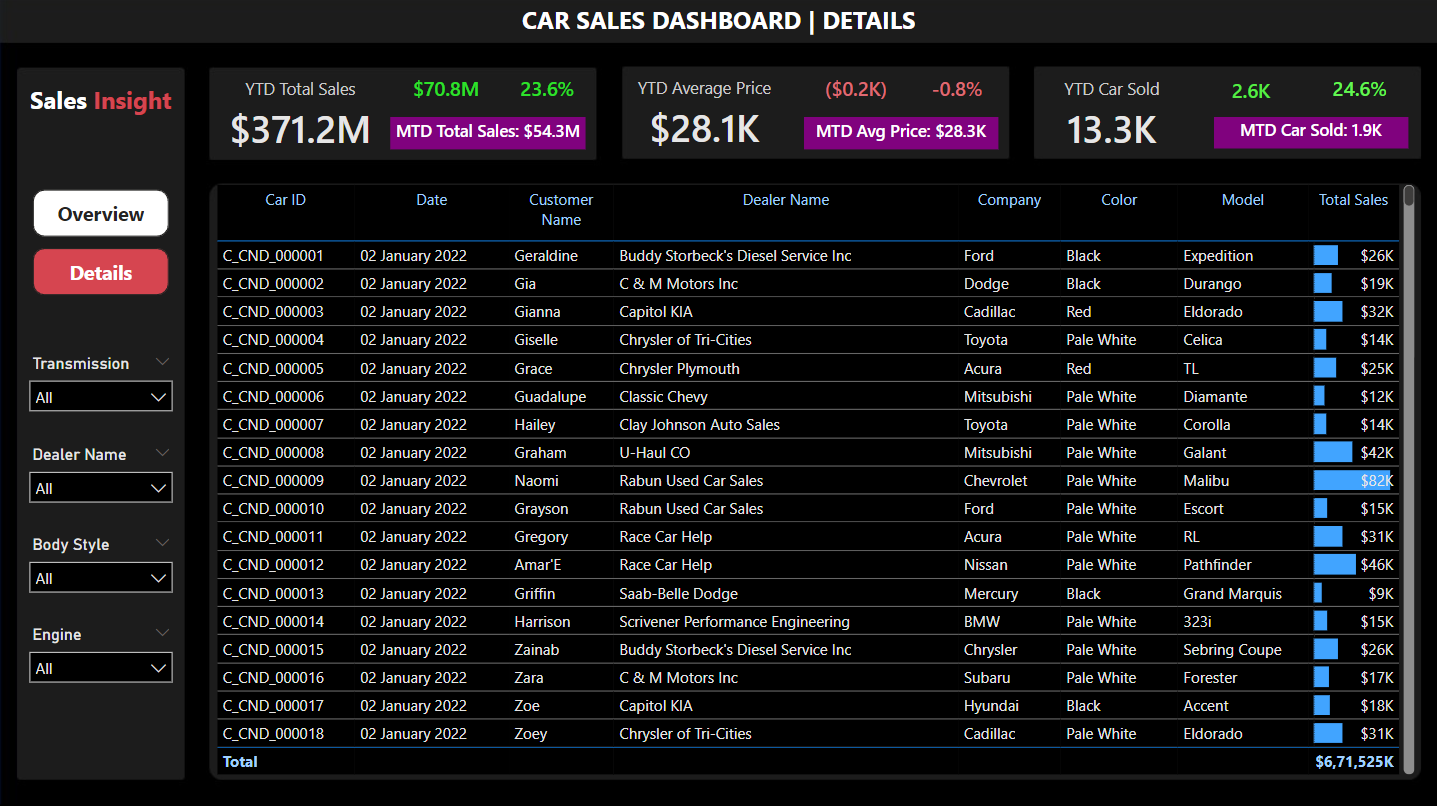

The page's visual inventory and layout, read from the dashboard file:
{"tool":"powerbi","page":{"name":"Details","canvas":[1280,720],"ordinal":1},"visuals":[{"type":"card","title":"YTD Total Sales","fields":{"Values":["car_data.YTD Sales"]},"box":[188.1,70.7,160,72.7],"z":0},{"type":"card","fields":{"Values":["car_data.Sales Diff"]},"box":[357.2,61.1,81.5,45.5],"z":1000},{"type":"card","fields":{"Values":["car_data.% Sales Diff"]},"box":[447,61.1,81.5,45.5],"z":2000},{"type":"card","fields":{"Values":["car_data.MTD KPI"]},"box":[347.6,106.7,173.8,28.8],"z":3000},{"type":"card","title":"YTD Average Price","fields":{"Values":["car_data.Average Price"]},"box":[562.1,69.5,129.4,73.1],"z":4000},{"type":"card","fields":{"Values":["car_data.Average Price Diff"]},"box":[721.5,61.1,81.5,45.5],"z":5000},{"type":"card","fields":{"Values":["car_data.% Average price Diff"]},"box":[811.7,61.3,81.1,45.7],"z":6000},{"type":"card","fields":{"Values":["car_data.Average MTD KPI"]},"box":[715.5,106.7,172.6,28.8],"z":7000},{"type":"card","title":"YTD Car Sold","fields":{"Values":["car_data.YTD car sold"]},"box":[924,70.7,129.4,73.1],"z":8000},{"type":"card","fields":{"Values":["car_data.Car sold SPLY"]},"box":[1072.7,62.3,81.5,45.5],"z":9000},{"type":"card","fields":{"Values":["car_data.CarSold diff %"]},"box":[1168.5,61.1,81.5,45.5],"z":10000},{"type":"card","fields":{"Values":["car_data.Car Sold YTD KPI"]},"box":[1079.8,107,172.5,28.1],"z":11000},{"type":"textbox","box":[16.2,0,1246.2,38.8],"z":12000},{"type":"slicer","fields":{"Values":["car_data.Body Style"]},"box":[16.2,473.3,147.5,65],"z":13000},{"type":"slicer","fields":{"Values":["car_data.Dealer_Name"]},"box":[16.2,392.9,147.5,65],"z":14000},{"type":"slicer","fields":{"Values":["car_data.Engine"]},"box":[16.2,553.8,147.5,65],"z":15000},{"type":"slicer","fields":{"Values":["car_data.Transmission"]},"box":[16.2,312.5,147.5,65],"z":16000},{"type":"tableEx","fields":{"Values":["car_data.Car_id","car_data.Date","car_data.Customer Name","car_data.Dealer_Name","car_data.Company","car_data.Color","car_data.Model","car_data.Total Sales"]},"box":[187.5,162.5,1075,533.8],"z":17000},{"type":"textbox","box":[16.2,71.2,147.5,43.8],"z":18000},{"type":"pageNavigator","box":[30,171.2,121.2,95],"z":19000}]}

Visuals, with their boxes in screenshot pixels (x1, y1, x2, y2), scaled from the page's 1280x720 canvas onto the 1437x806 screenshot:
"YTD Total Sales" card: left=211, top=79, right=391, bottom=161
card - car_data.Sales Diff: left=401, top=68, right=493, bottom=119
card - car_data.% Sales Diff: left=502, top=68, right=593, bottom=119
card - car_data.MTD KPI: left=390, top=119, right=585, bottom=152
"YTD Average Price" card: left=631, top=78, right=776, bottom=160
card - car_data.Average Price Diff: left=810, top=68, right=901, bottom=119
card - car_data.% Average price Diff: left=911, top=69, right=1002, bottom=120
card - car_data.Average MTD KPI: left=803, top=119, right=997, bottom=152
"YTD Car Sold" card: left=1037, top=79, right=1183, bottom=161
card - car_data.Car sold SPLY: left=1204, top=70, right=1296, bottom=121
card - car_data.CarSold diff %: left=1312, top=68, right=1403, bottom=119
card - car_data.Car Sold YTD KPI: left=1212, top=120, right=1406, bottom=151
textbox: left=18, top=0, right=1417, bottom=43
slicer - car_data.Body Style: left=18, top=530, right=184, bottom=603
slicer - car_data.Dealer_Name: left=18, top=440, right=184, bottom=513
slicer - car_data.Engine: left=18, top=620, right=184, bottom=693
slicer - car_data.Transmission: left=18, top=350, right=184, bottom=423
tableEx - car_data.Car_id x car_data.Date: left=210, top=182, right=1417, bottom=779
textbox: left=18, top=80, right=184, bottom=129
pageNavigator: left=34, top=192, right=170, bottom=298
